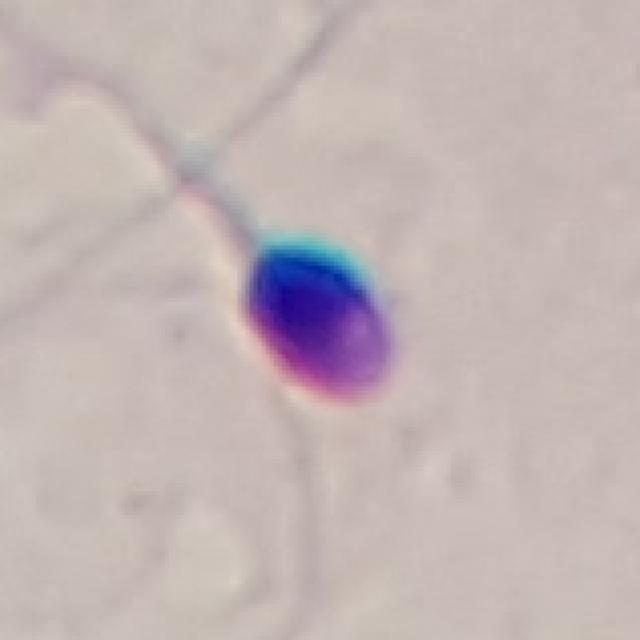normal sperm: (200, 183, 398, 405)
